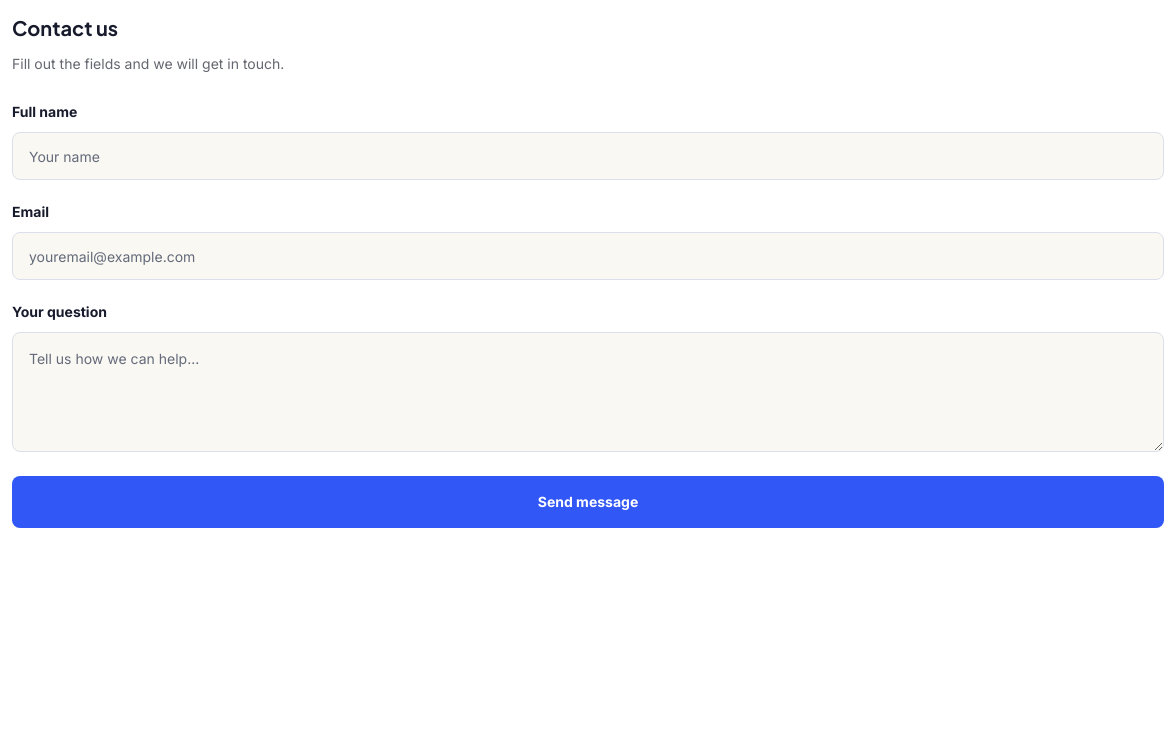
Test case: a failed submission (network error) shows an inline error and keeps what was typed
This screenshot has width=1176, height=732.
Type "Maya Chen" into the field labelled "Full name".
click(588, 156); type("Maya Chen")  # box [12, 132, 1164, 180]
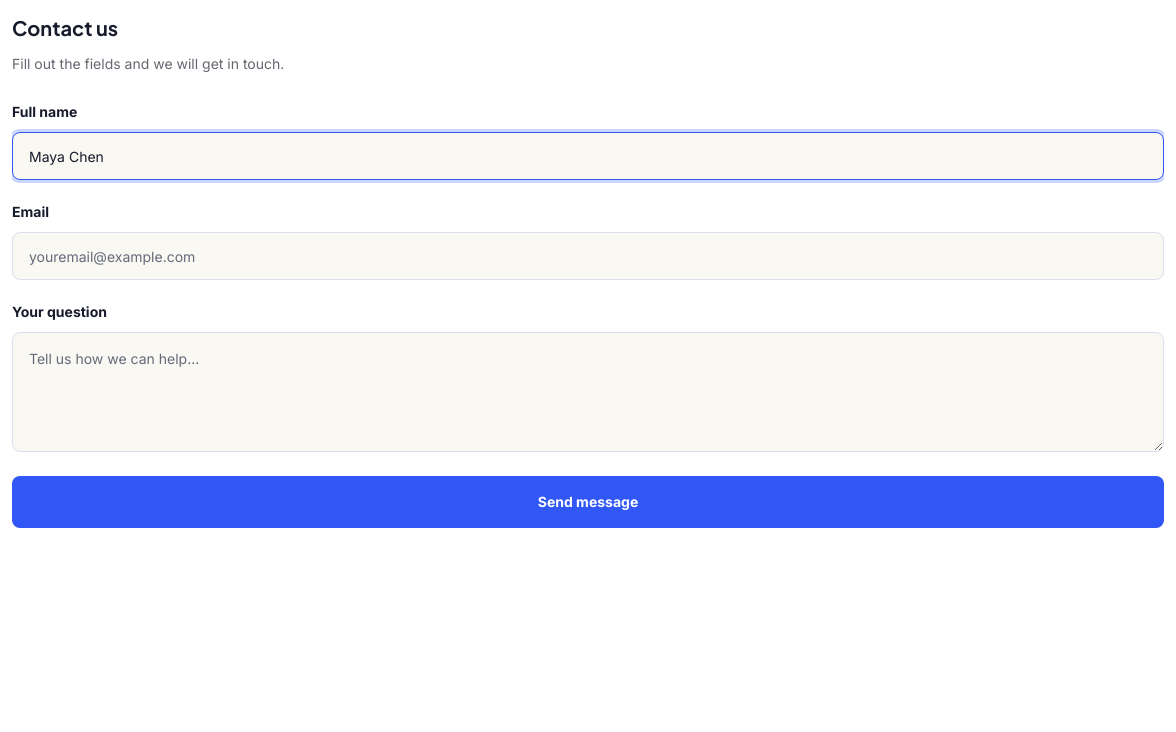
Type "maya@example.com" into the field labelled "Email".
click(588, 256); type("maya@example.com")  # box [12, 232, 1164, 280]
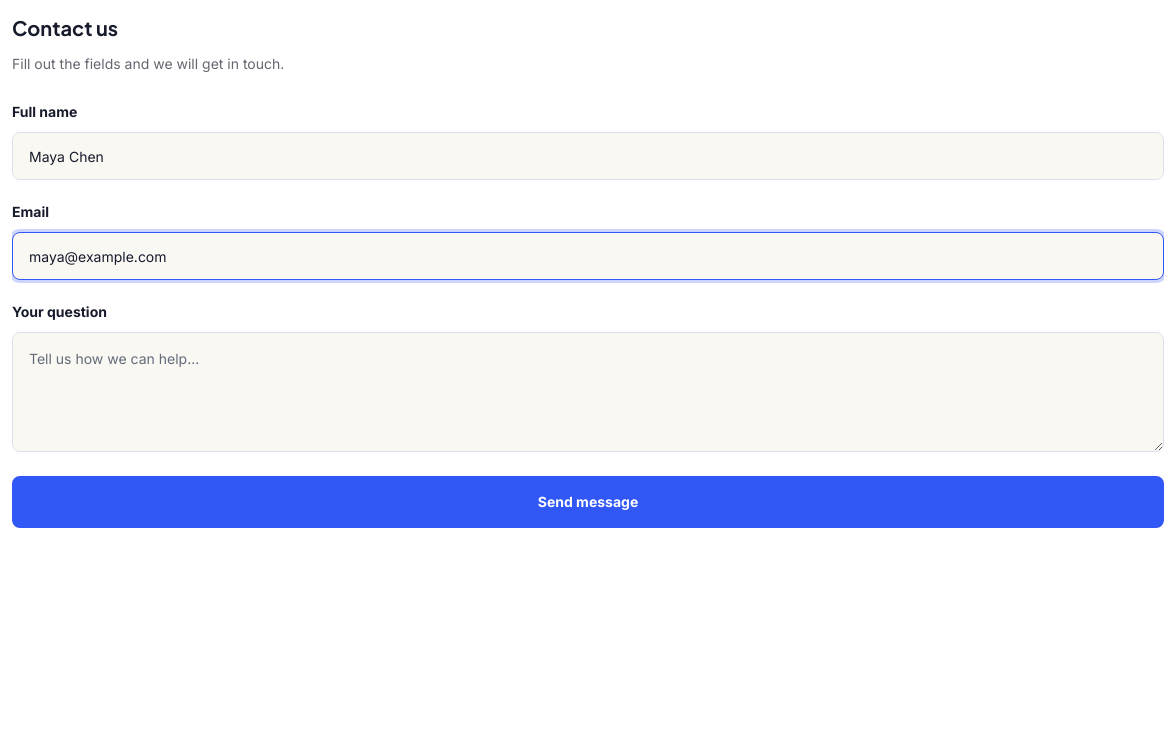
Type "Which course should I start with?" into the text box labelled "Your question".
click(588, 392); type("Which course should I start with?")  # box [12, 332, 1164, 452]
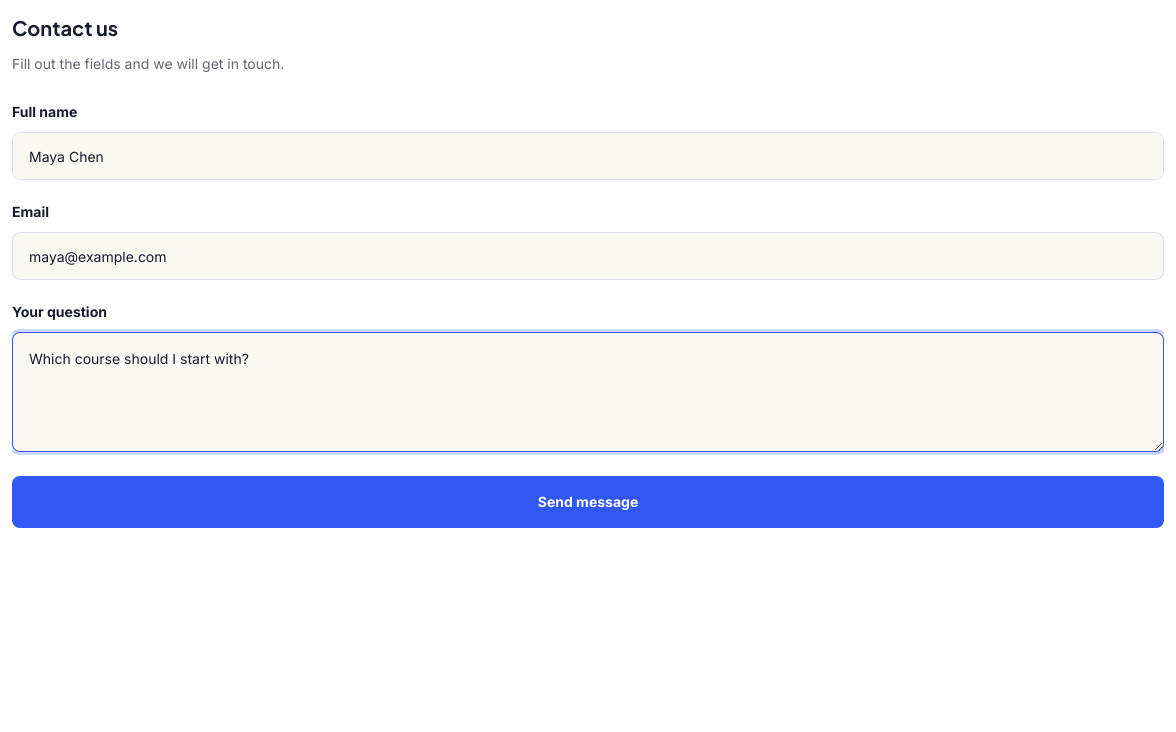
Click the button "Send message".
click(588, 502)  # box [12, 476, 1164, 528]
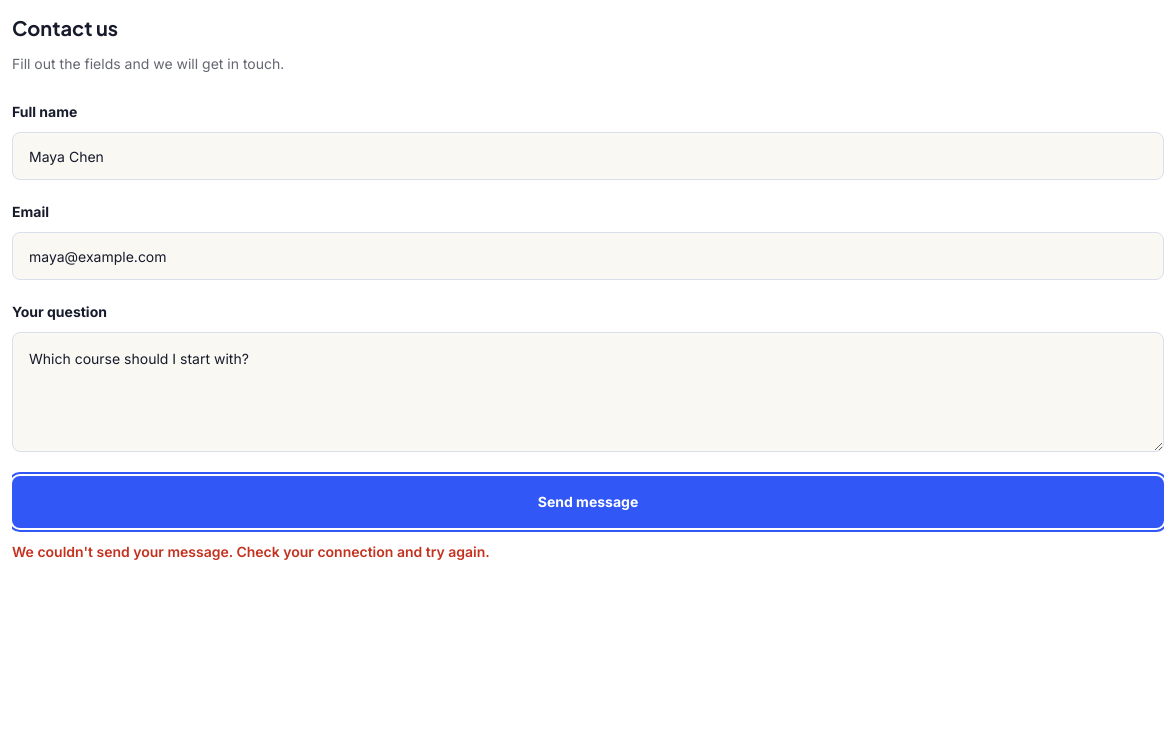
Now the field labelled "Full name" holds "Maya Chen", box [12, 132, 1164, 180]
Now the field labelled "Email" holds "maya@example.com", box [12, 232, 1164, 280]
Now the message reads "We couldn't send your message. Check your connection and try again.", box [12, 543, 490, 560]
